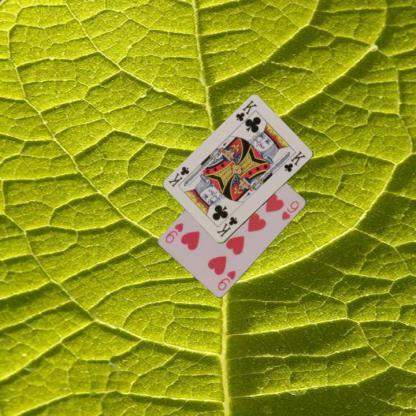9h: (214, 267, 237, 292)
Kc: (214, 214, 240, 239), (232, 98, 258, 123)
